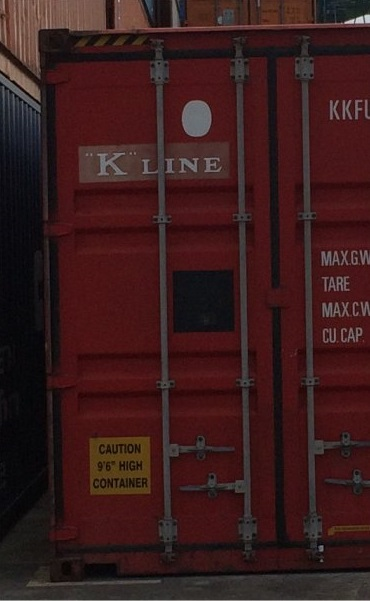container_door: (51, 22, 370, 583)
